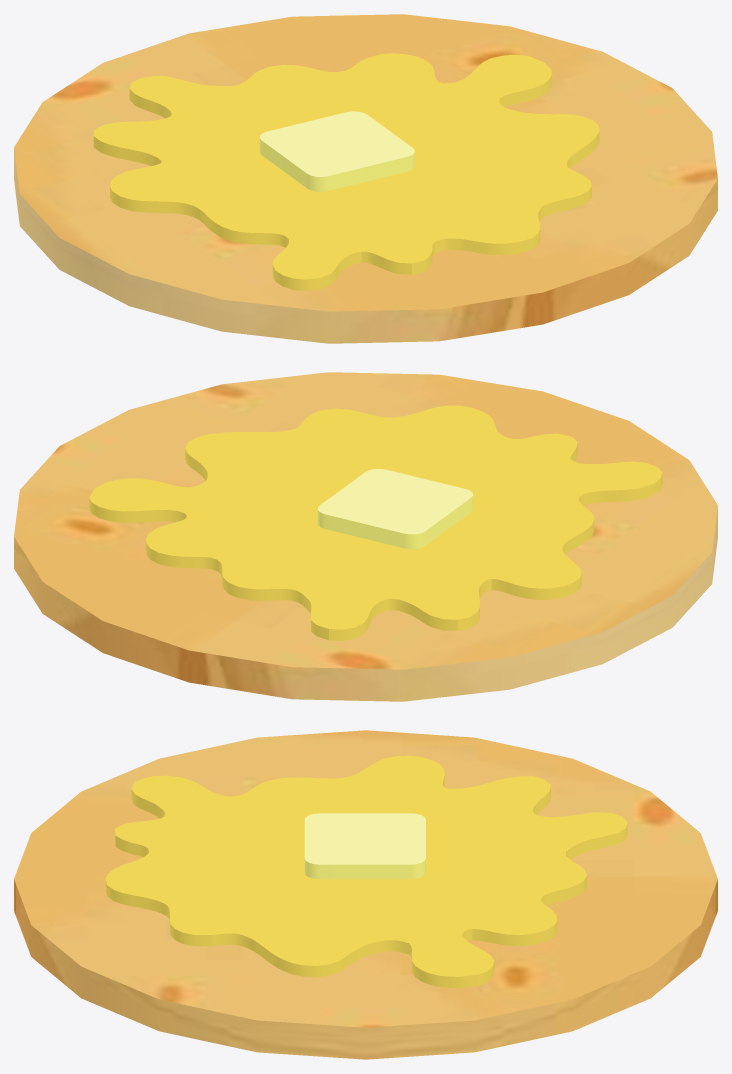
File: taco_Salsa.glb
3 renders of one model, top to bottom at view 1: azimuth 30°, elevation 25°; view 2: azimuth 150°, elevation 25°; view 3: azimuth 270°, elevation 25°, orthographic.
Visible parts, largest first — view 1: tortilla.002, Melted_Butter_Butter_0; view 2: tortilla.002, Melted_Butter_Butter_0; view 3: tortilla.002, Melted_Butter_Butter_0.
Boxes of the visible parts, x1,y1,x2,y2 form: tortilla.002: (14,14,717,343); Melted_Butter_Butter_0: (93,53,599,290); tortilla.002: (14,372,717,701); Melted_Butter_Butter_0: (89,405,662,640); tortilla.002: (14,730,717,1059); Melted_Butter_Butter_0: (105,755,627,988).
Size of the model in its own units: 0.2118 by 0.0192 by 0.2118.
Materials: 2 (2 with a texture image).
